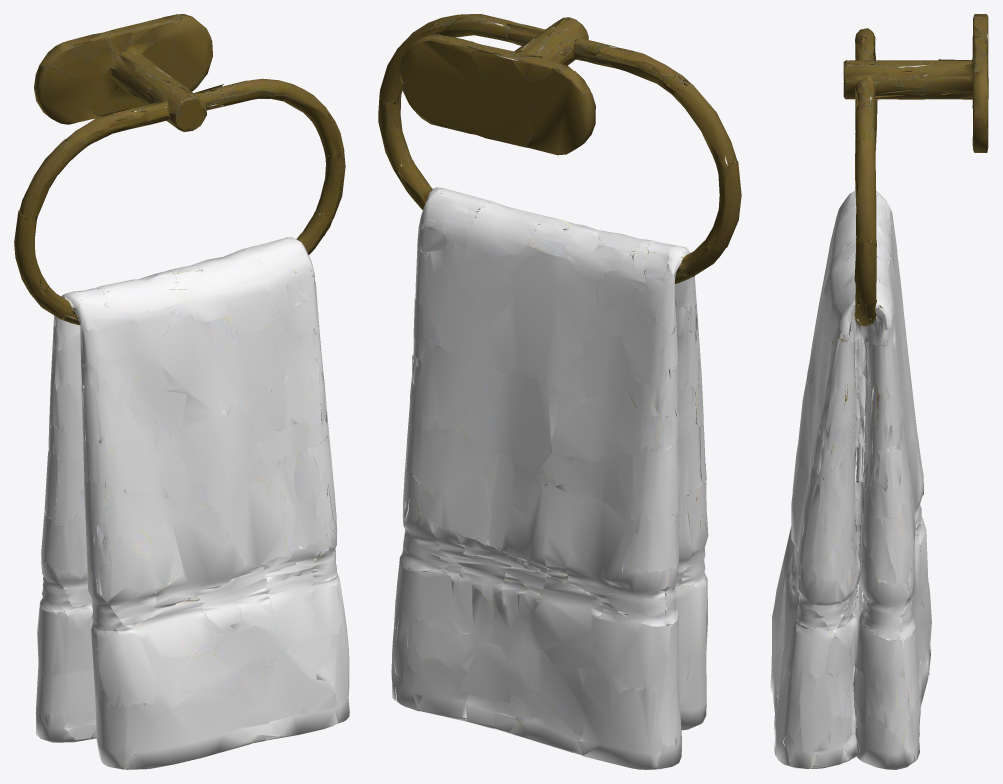
The model's file is bath-towel-ring.glb.
3 renders of one model, left to right at view 1: azimuth 30°, elevation 25°; view 2: azimuth 150°, elevation 25°; view 3: azimuth 270°, elevation 25°, orthographic. The views are drawn at different scales.
Visible parts, largest first — view 1: Mesh_0; view 2: Mesh_0; view 3: Mesh_0.
Part boxes in pixels (<box>): Mesh_0: <box>14,14,349,769</box>; Mesh_0: <box>378,14,741,769</box>; Mesh_0: <box>770,14,988,769</box>.
Size of the model in its own units: 1 by 1.9 by 0.5691.
1 material, 1 textured.
